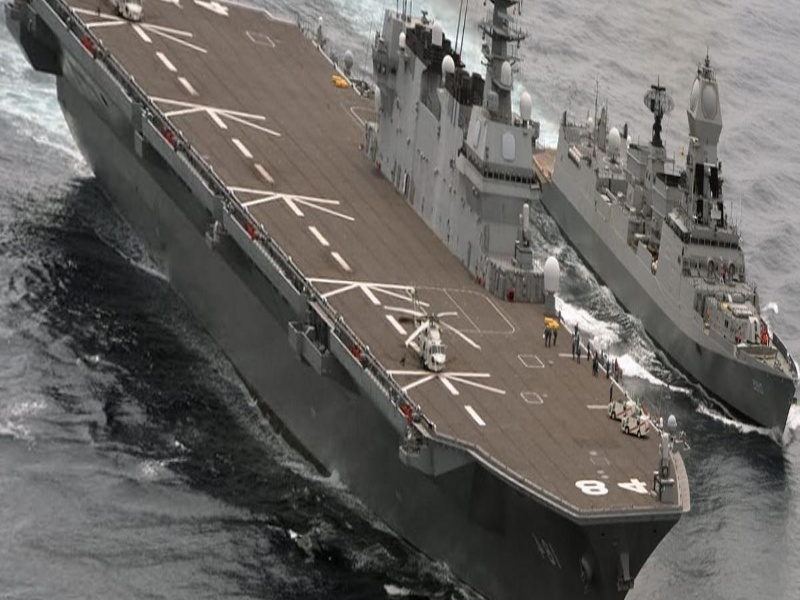carrier: (66, 7, 685, 600)
cruise: (572, 70, 798, 434)
